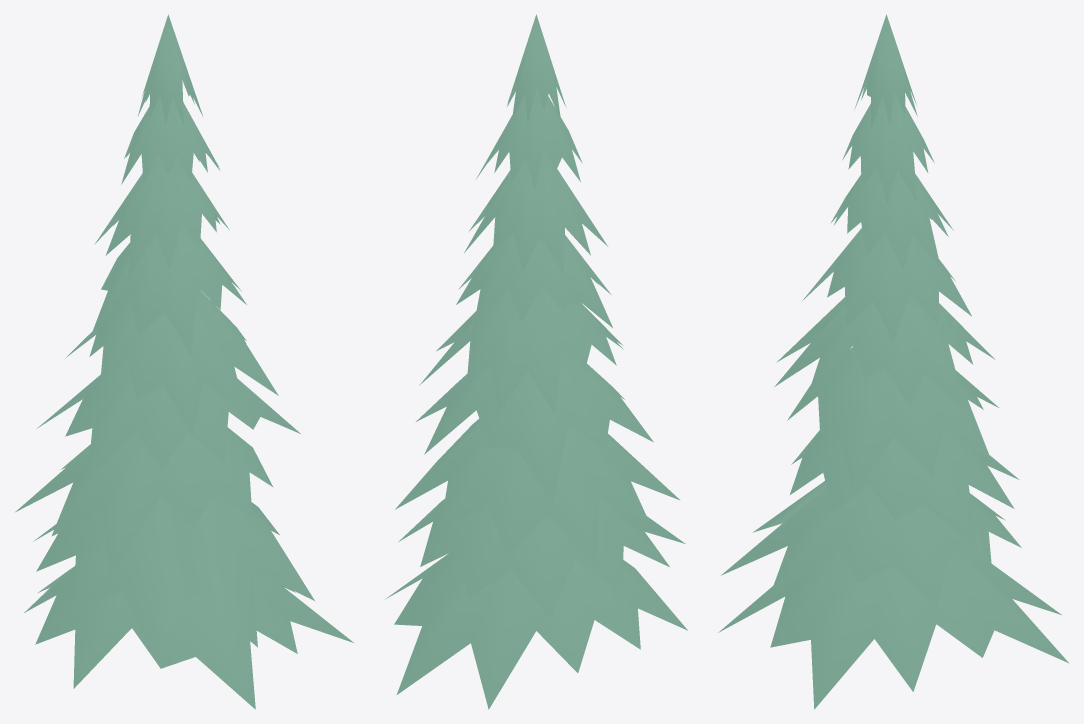
File: Blender_Cedar_3_Far.glb
3 renders of one model, left to right at view 1: azimuth 30°, elevation 25°; view 2: azimuth 150°, elevation 25°; view 3: azimuth 270°, elevation 25°, orthographic. The views are drawn at different scales.
Visible parts, largest first — view 1: Blender_Cedar_3_Far; view 2: Blender_Cedar_3_Far; view 3: Blender_Cedar_3_Far.
Boxes of the visible parts, x1,y1,x2,y2 form: Blender_Cedar_3_Far: [15, 14, 354, 709]; Blender_Cedar_3_Far: [385, 14, 687, 709]; Blender_Cedar_3_Far: [718, 14, 1069, 709].
Bounding box in the file's own units: 12.99 × 28.93 × 14.75.
